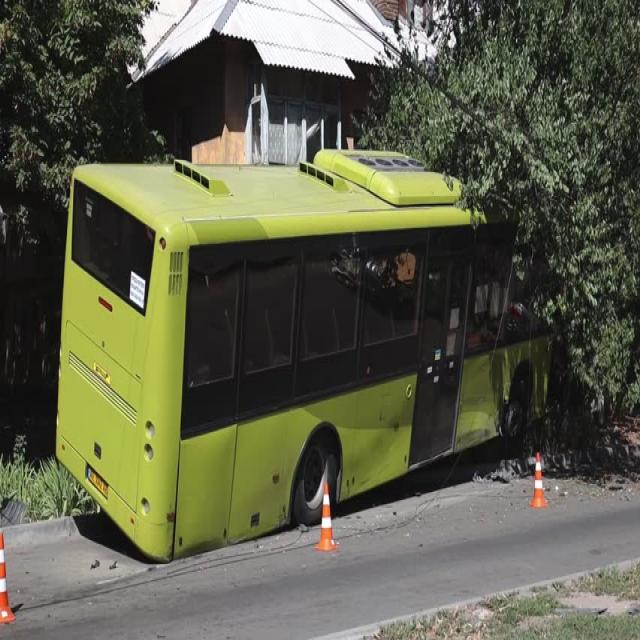Accident: (52, 145, 582, 568)
